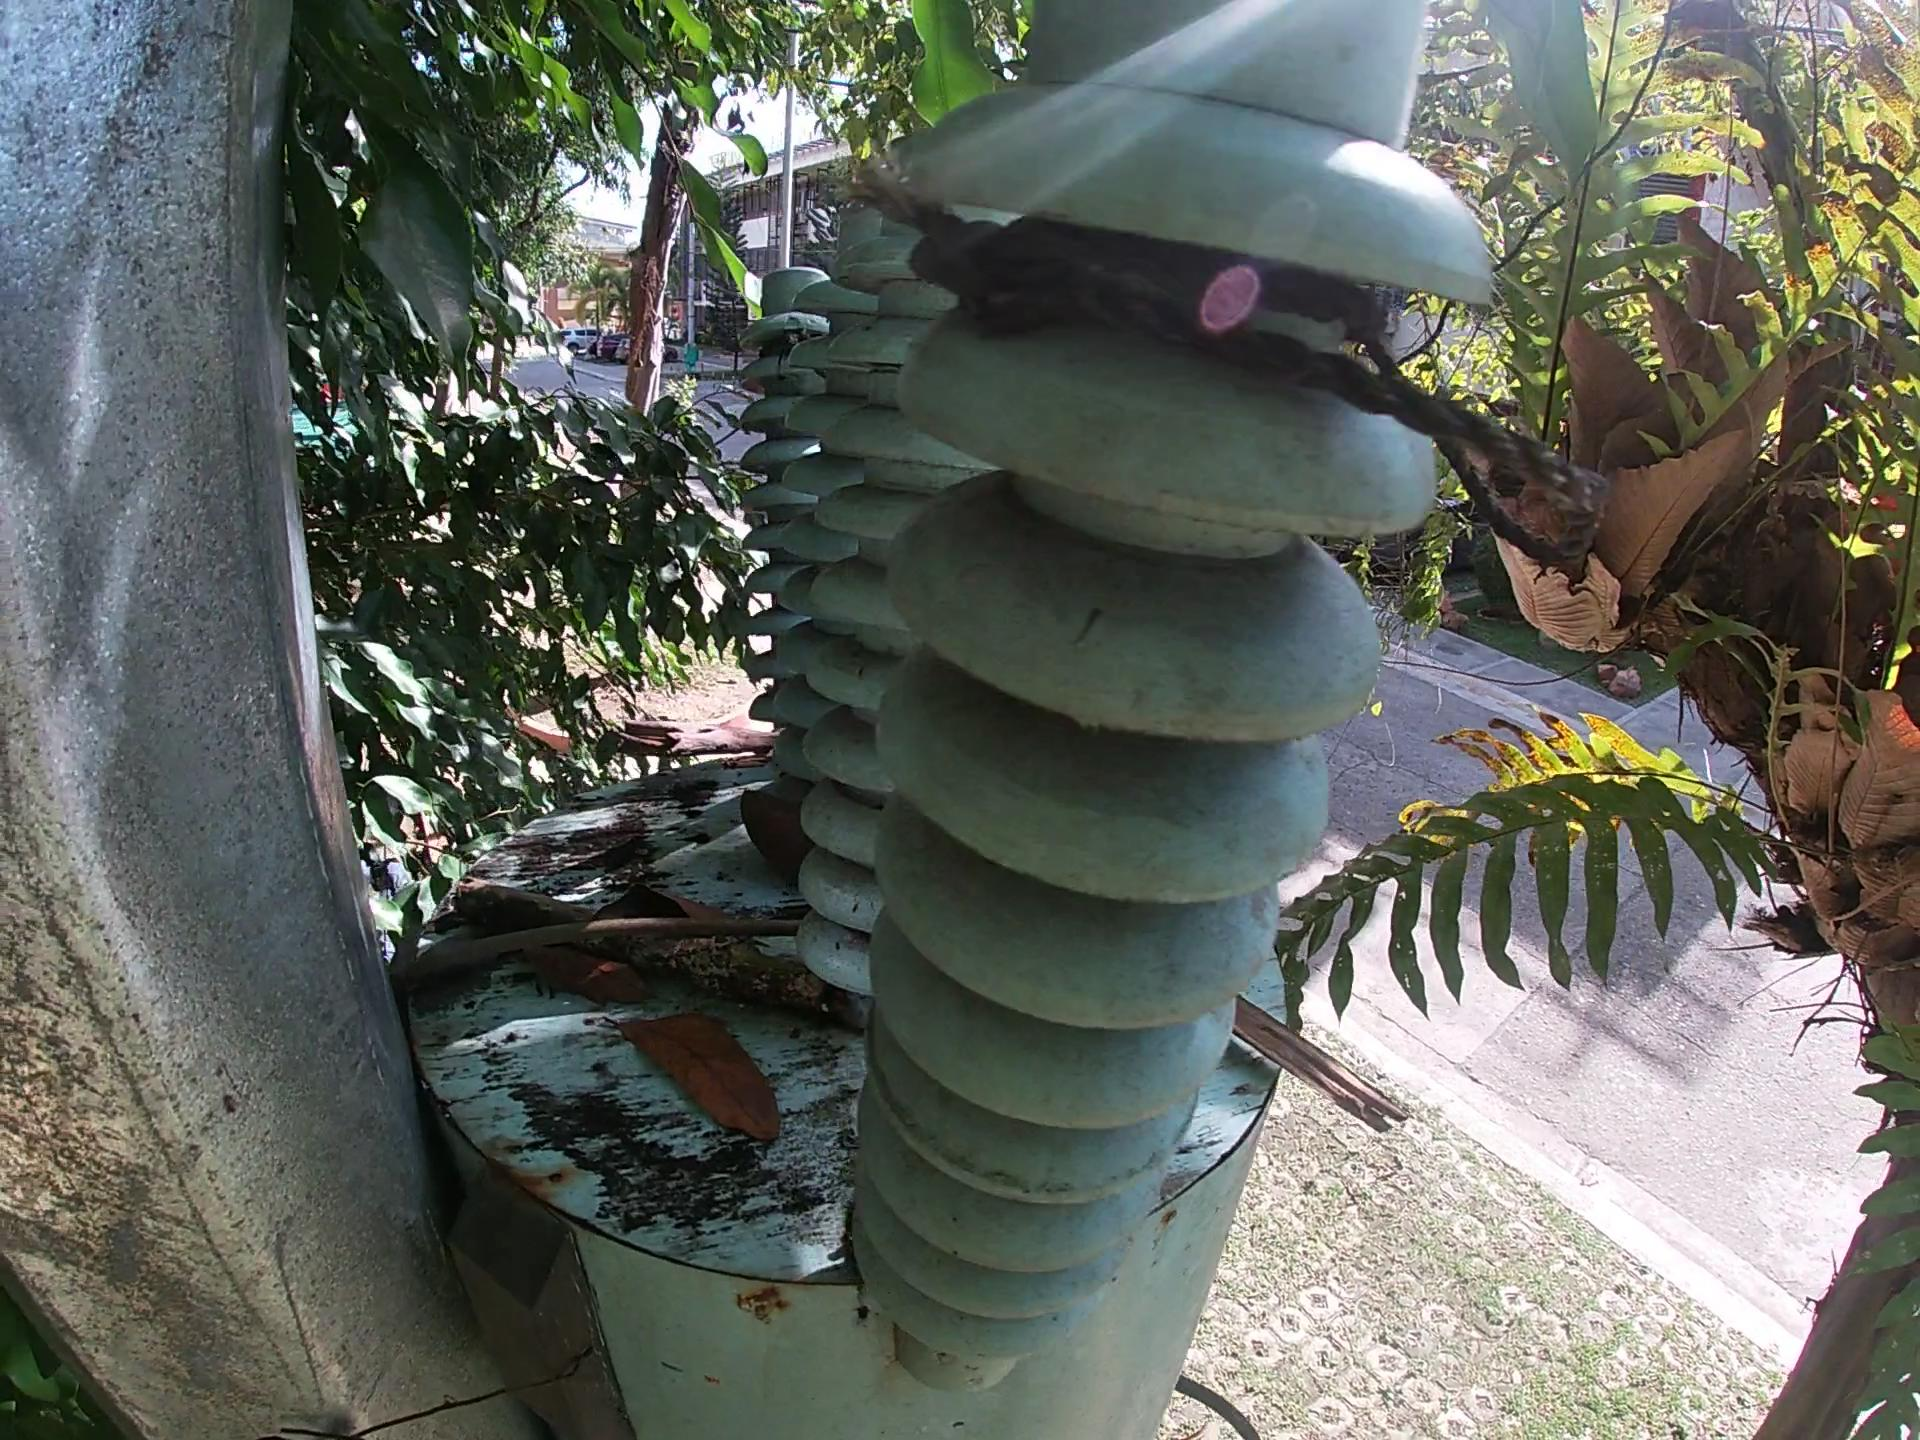leaf: (599, 1007, 794, 1150), (519, 941, 655, 1004), (587, 880, 745, 923)
mahogany fruit: (735, 781, 821, 891)
tree branch: (451, 877, 880, 1038), (382, 914, 807, 997), (1232, 991, 1414, 1139), (612, 711, 780, 768)
